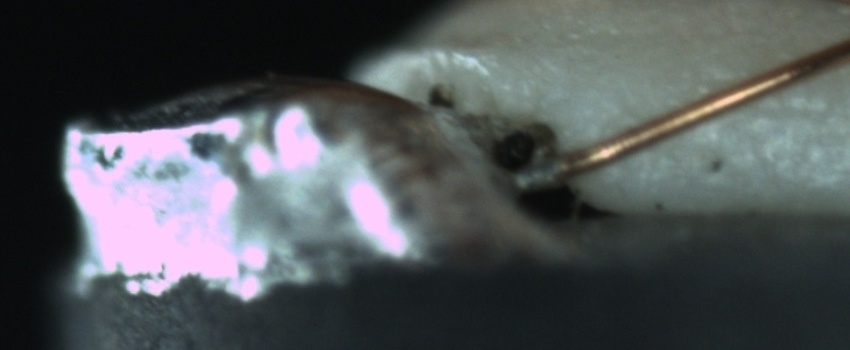DL: (708, 82, 846, 143)
TS: (510, 160, 562, 192)
